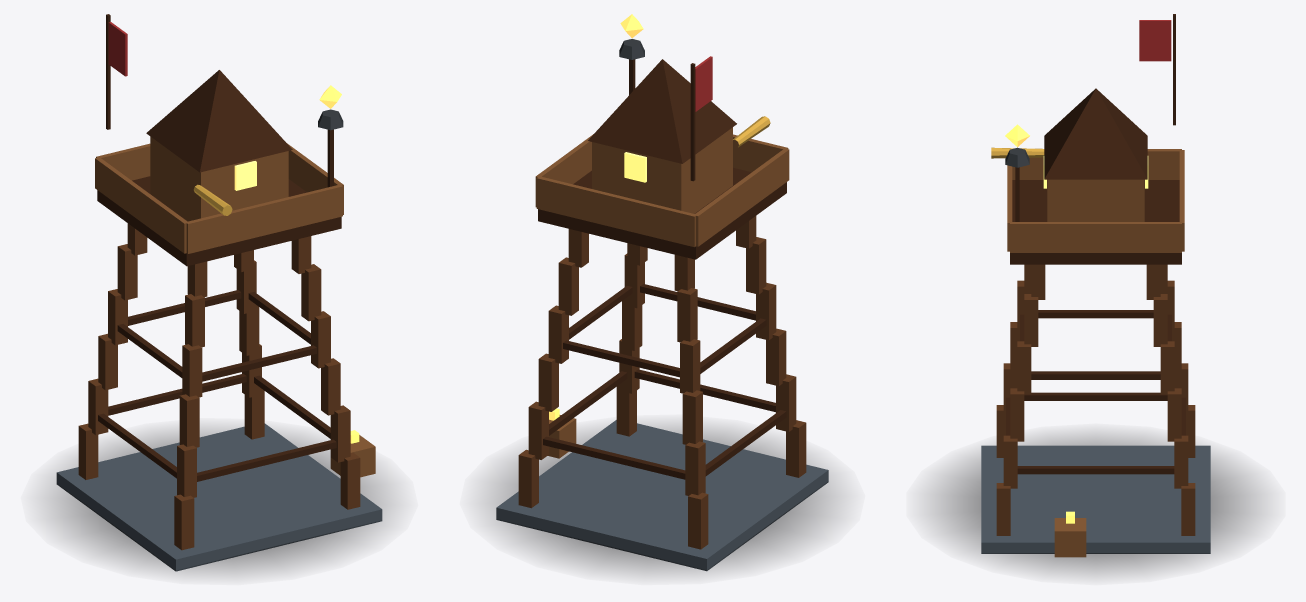
Rendered from scout_tower_t0.glb.
3 renders of one model, left to right at view 1: azimuth 30°, elevation 25°; view 2: azimuth 150°, elevation 25°; view 3: azimuth 270°, elevation 25°, orthographic. The views are drawn at different scales.
Parts seen in each view (by area): view 1: scout_tower_t0; view 2: scout_tower_t0; view 3: scout_tower_t0.
Part boxes in pixels (x1,y1,x2,y2): scout_tower_t0: [45, 14, 393, 574]; scout_tower_t0: [485, 14, 839, 574]; scout_tower_t0: [930, 14, 1261, 574].
Bounding box in the file's own units: 6.2 × 7.92 × 6.14.
